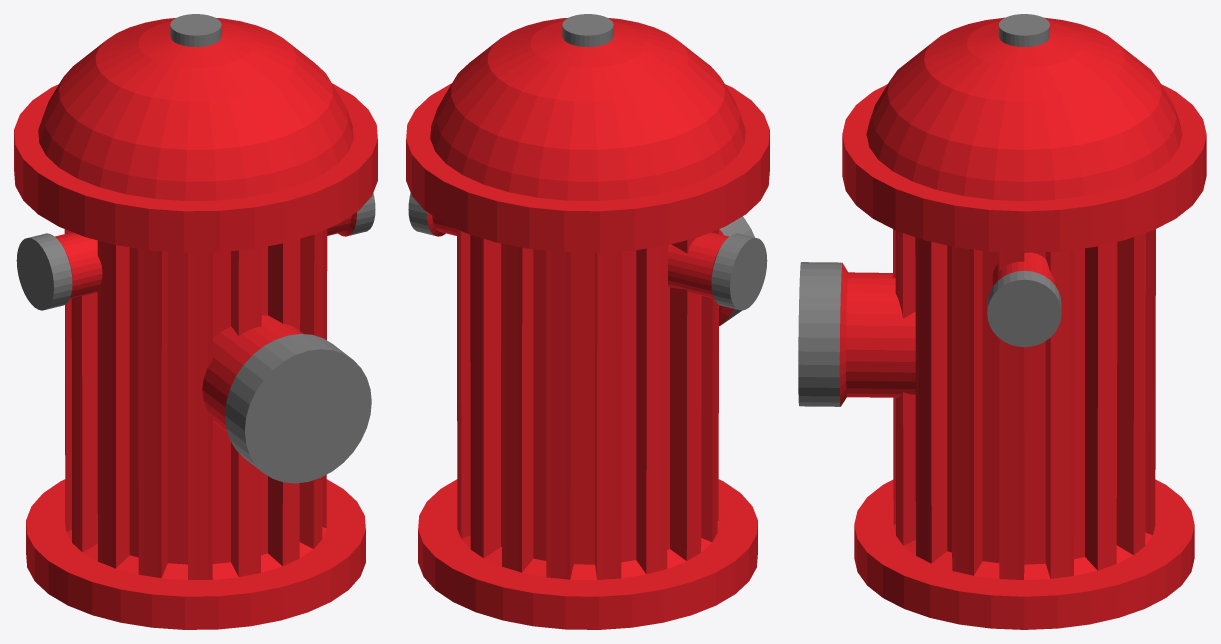
Rendered from Гидрант.fbx.
The picture shows the model from 3 angles, left to right: view 1: azimuth 30°, elevation 25°; view 2: azimuth 150°, elevation 25°; view 3: azimuth 270°, elevation 25°; orthographic projection.
Parts seen in each view (by area): view 1: Cylinder; view 2: Cylinder; view 3: Cylinder.
Boxes of the visible parts, x1,y1,x2,y2 form: Cylinder: [14, 14, 377, 629]; Cylinder: [406, 14, 769, 629]; Cylinder: [798, 14, 1206, 629].
Size of the model in its own units: 145 by 229 by 159.
